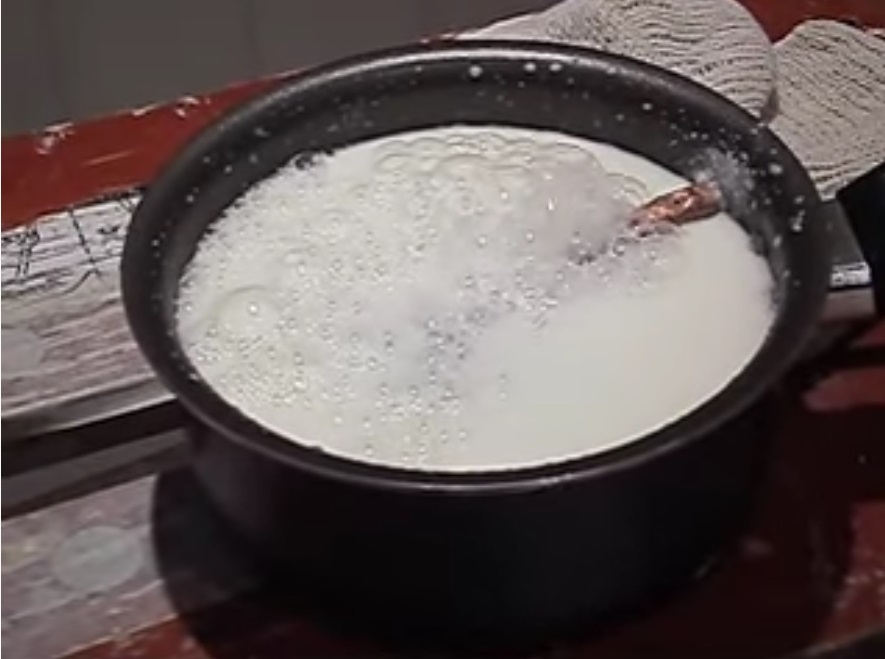Steaming: (115, 36, 885, 498)
